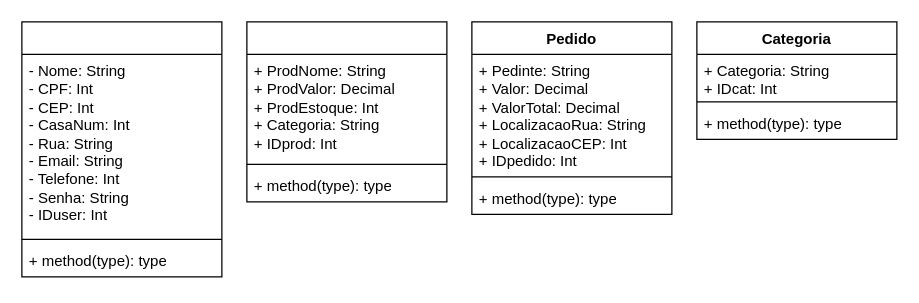
Some shapes in this 919 by 303 pixel diagram are drawn without their labels. Here are the shapes that lost their labels. From the top down, the box of each, then its label:
(246, 21, 447, 202): Produto
(21, 21, 222, 277): Clinte
